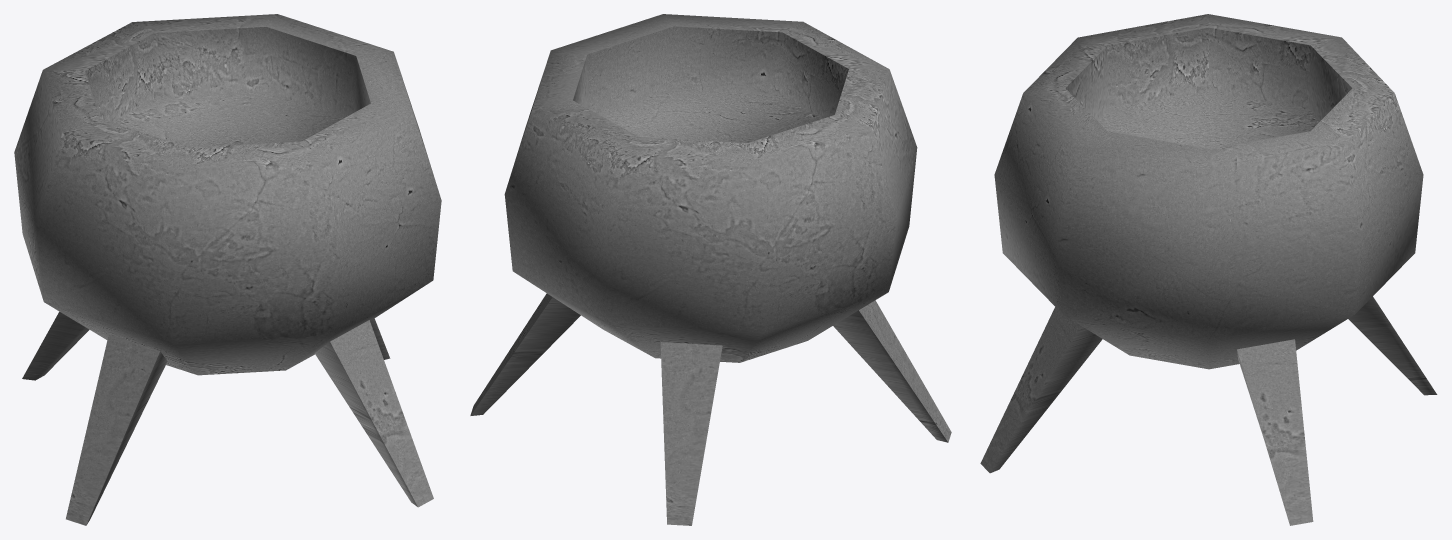
File: Cauldron.FBX
3 renders of one model, left to right at view 1: azimuth 30°, elevation 25°; view 2: azimuth 150°, elevation 25°; view 3: azimuth 270°, elevation 25°, orthographic. The views are drawn at different scales.
Parts seen in each view (by area): view 1: Empty_Mesh; view 2: Empty_Mesh; view 3: Empty_Mesh.
Part boxes in pixels (x1,y1,x2,y2): Empty_Mesh: [14, 14, 441, 525]; Empty_Mesh: [470, 14, 951, 525]; Empty_Mesh: [980, 14, 1437, 525].
Bounding box in the file's own units: 24.86 × 20.46 × 24.86.
